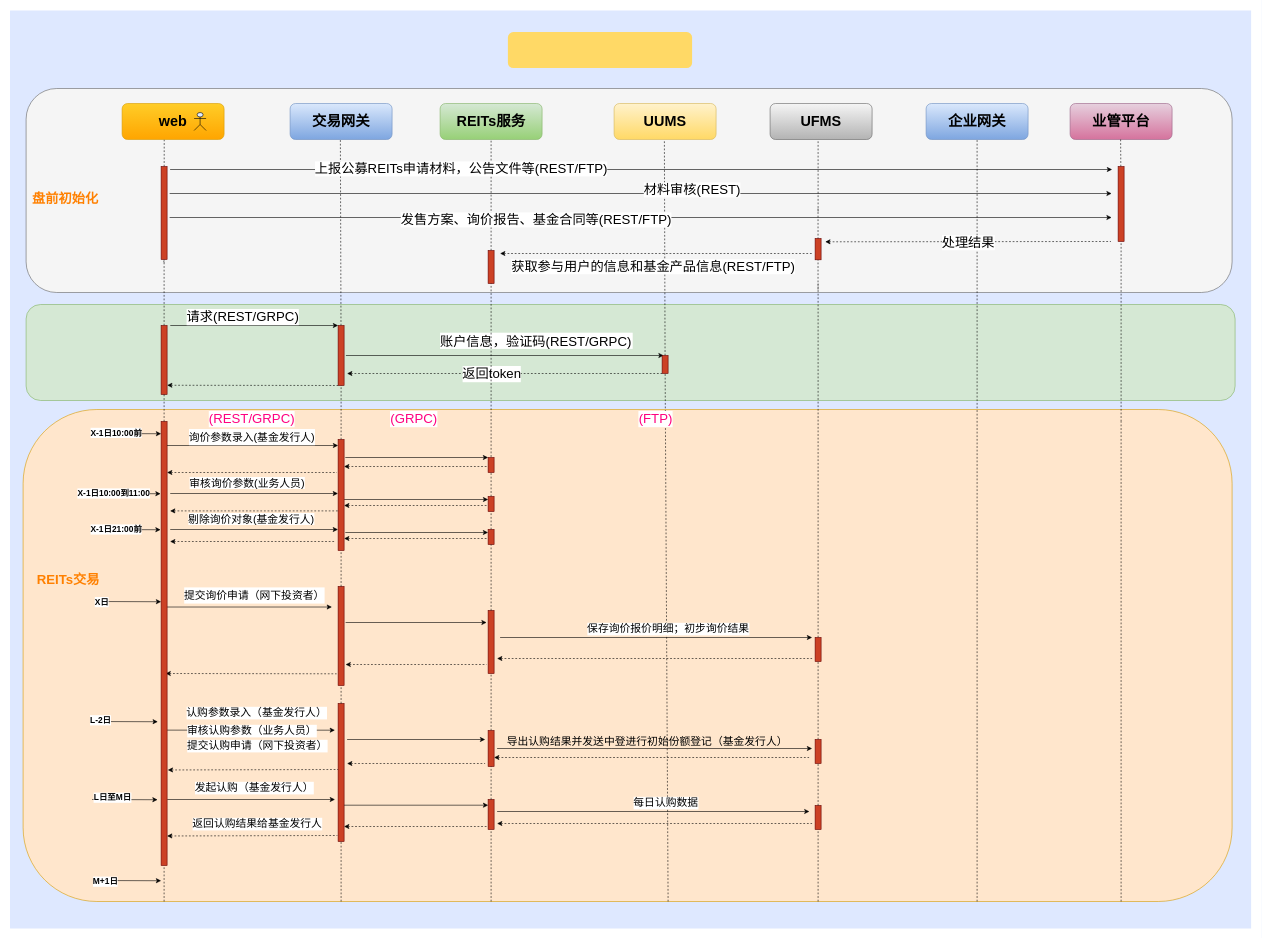
This 1262x938 diagram has some shape labels left out. Here are the shapes that lost their labels. From the top down, the centre of each, then its label:
the point at 600,50: REITs交易时序图
the point at 630,352: 登录认证
